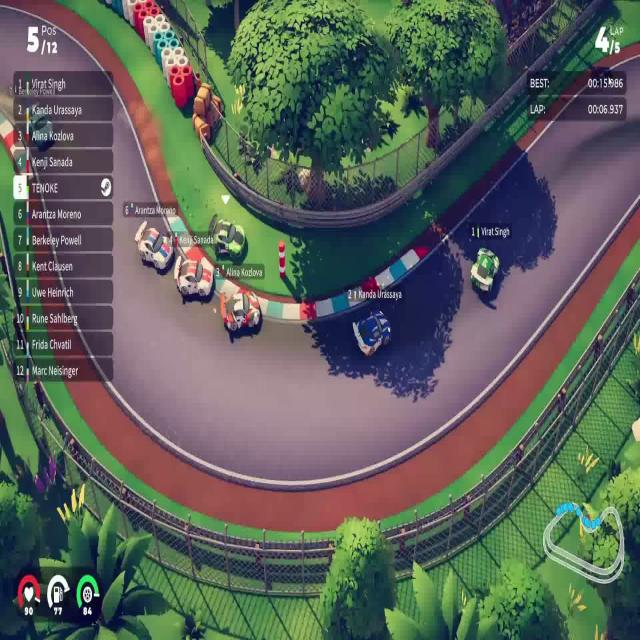car: (174, 247, 214, 302), (134, 219, 174, 273), (220, 287, 262, 335), (352, 308, 392, 358), (470, 245, 500, 296), (212, 218, 246, 262)
